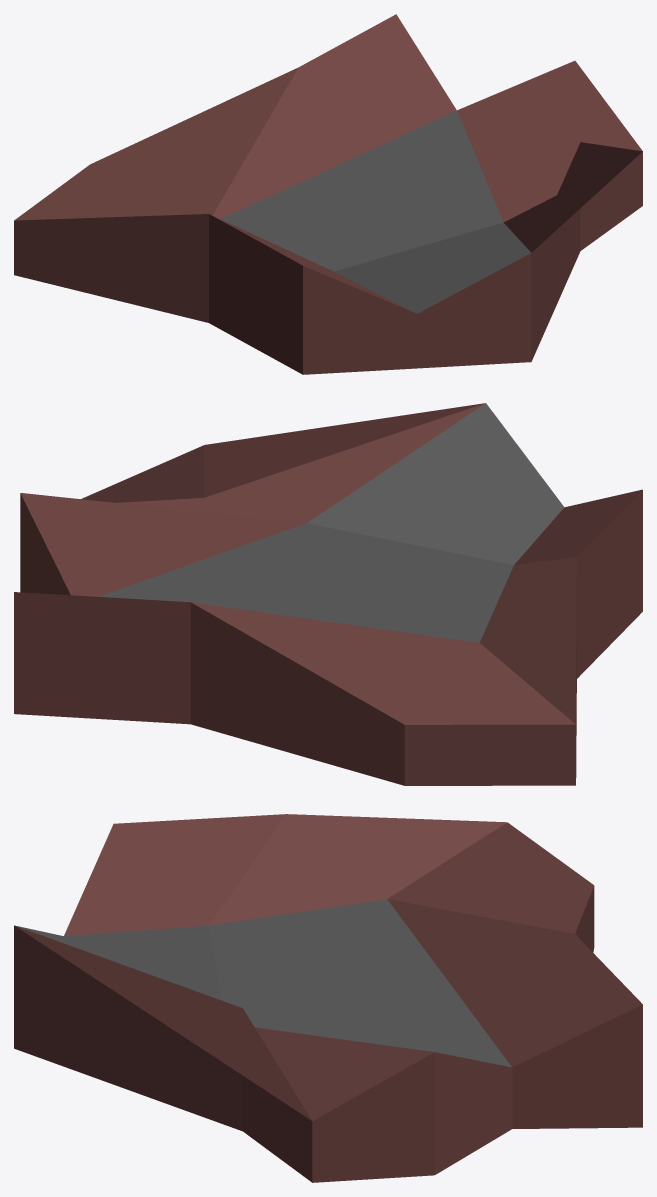
File: prop-pothole.fbx
The picture shows the model from 3 angles, top to bottom: view 1: azimuth 30°, elevation 25°; view 2: azimuth 150°, elevation 25°; view 3: azimuth 270°, elevation 25°; orthographic projection. The views are drawn at different scales.
Visible parts, largest first — view 1: prop-pothole; view 2: prop-pothole; view 3: prop-pothole.
Part boxes in pixels (<box>): prop-pothole: <box>14,14,642,374</box>; prop-pothole: <box>14,403,642,785</box>; prop-pothole: <box>14,814,642,1182</box>.
Bounding box in the file's own units: 52.03 × 10 × 46.25.
